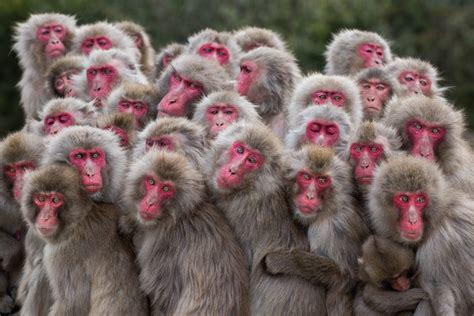monkey: (206, 119, 323, 316), (125, 152, 246, 316), (386, 100, 474, 316), (20, 168, 144, 316), (266, 147, 368, 316), (371, 155, 446, 316), (1, 134, 46, 312), (15, 14, 74, 119), (46, 127, 123, 199), (361, 236, 429, 310), (154, 58, 230, 121), (237, 52, 299, 116), (292, 70, 361, 123), (348, 125, 399, 191), (83, 46, 143, 102), (193, 88, 257, 137), (137, 122, 206, 164), (328, 32, 392, 77), (290, 110, 353, 150), (386, 59, 438, 103), (105, 81, 152, 127), (75, 24, 135, 60), (42, 99, 97, 138), (188, 25, 235, 70), (357, 67, 395, 119), (44, 55, 83, 99)
